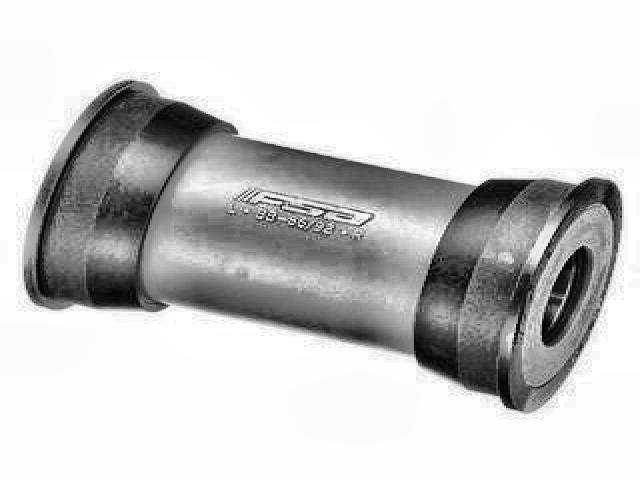bottom_bracket: (21, 76, 625, 416)
